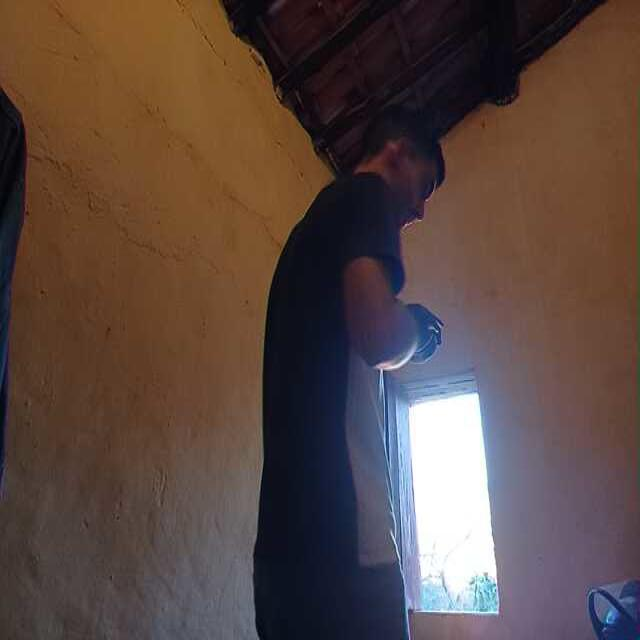pessoa: (257, 117, 437, 640)
